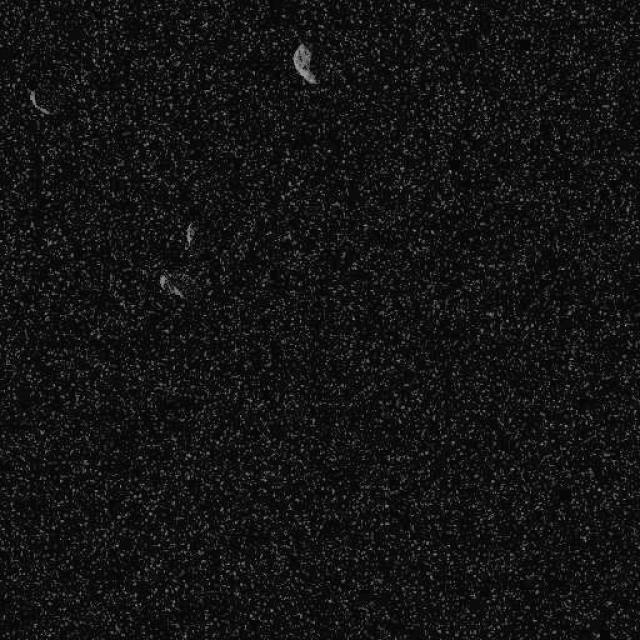D2: (291, 41, 319, 85), (26, 88, 55, 116), (157, 271, 185, 299), (182, 220, 196, 250)
